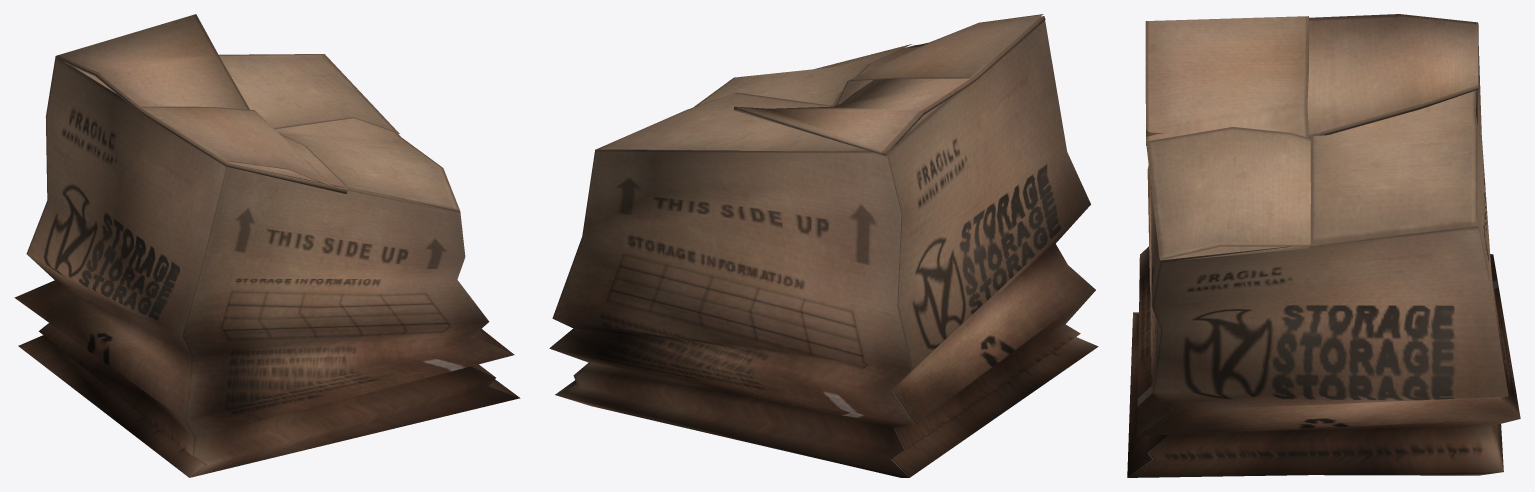
3 renders of one model, left to right at view 1: azimuth 30°, elevation 25°; view 2: azimuth 150°, elevation 25°; view 3: azimuth 270°, elevation 25°, orthographic. The views are drawn at different scales.
Visible parts, largest first — view 1: Box_17; view 2: Box_17; view 3: Box_17.
Boxes of the visible parts, x1=… form: Box_17: x1=14, y1=14, x2=520, y2=477; Box_17: x1=549, y1=14, x2=1098, y2=477; Box_17: x1=1127, y1=14, x2=1520, y2=477.
Size of the model in its own units: 59.97 by 53.99 by 59.19.
